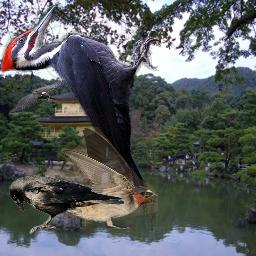Crow: (9, 175, 125, 234), (9, 79, 64, 113)
Swallow: (45, 127, 158, 230)
Woodpecker: (1, 5, 161, 231)
